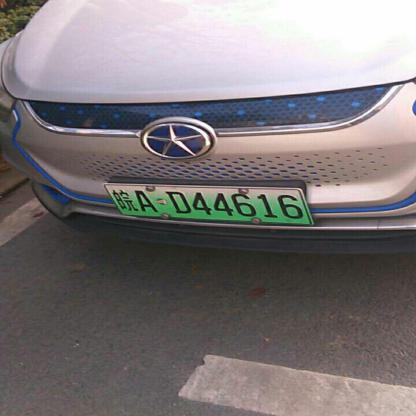lp: (105, 184, 312, 223)
